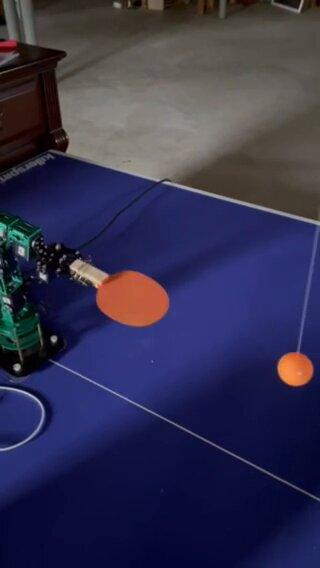oball: (276, 348, 311, 382)
